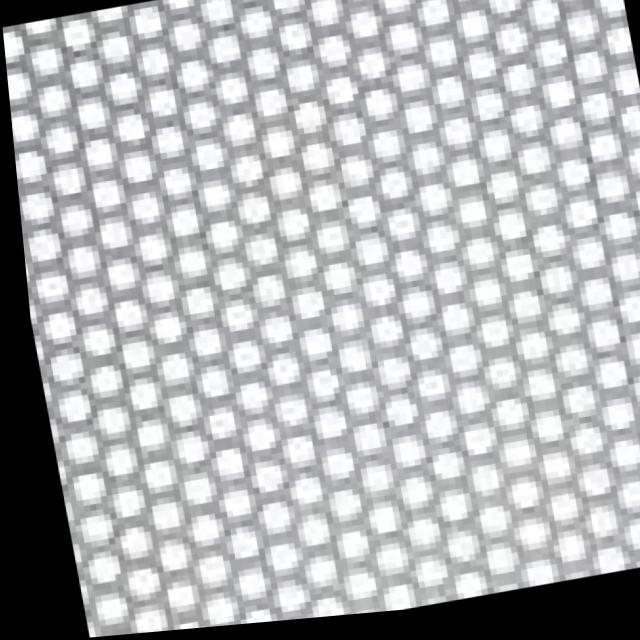metal-plates: (3, 1, 640, 639)
